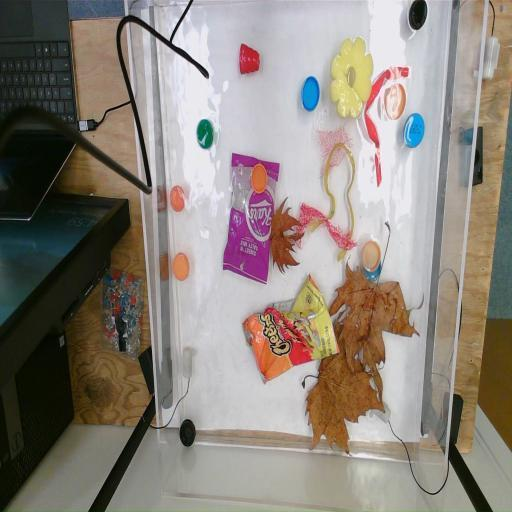Bottle Cap: (300, 71, 320, 114), (384, 85, 408, 120), (406, 113, 425, 150), (250, 162, 269, 194), (409, 0, 429, 30), (173, 250, 190, 284), (196, 121, 215, 149), (170, 184, 187, 214), (362, 242, 380, 270), (180, 418, 195, 450), (364, 256, 382, 280)
Cone Cap: (236, 41, 260, 74)
Leaf: (336, 220, 420, 370), (301, 337, 385, 454), (268, 204, 303, 274)
Netting: (297, 202, 358, 261), (317, 128, 353, 180)
Plastic Bag: (242, 272, 340, 382), (223, 148, 281, 286)
Plastic Strand: (364, 66, 412, 190), (312, 142, 356, 260)
Sponge: (330, 38, 374, 122)
